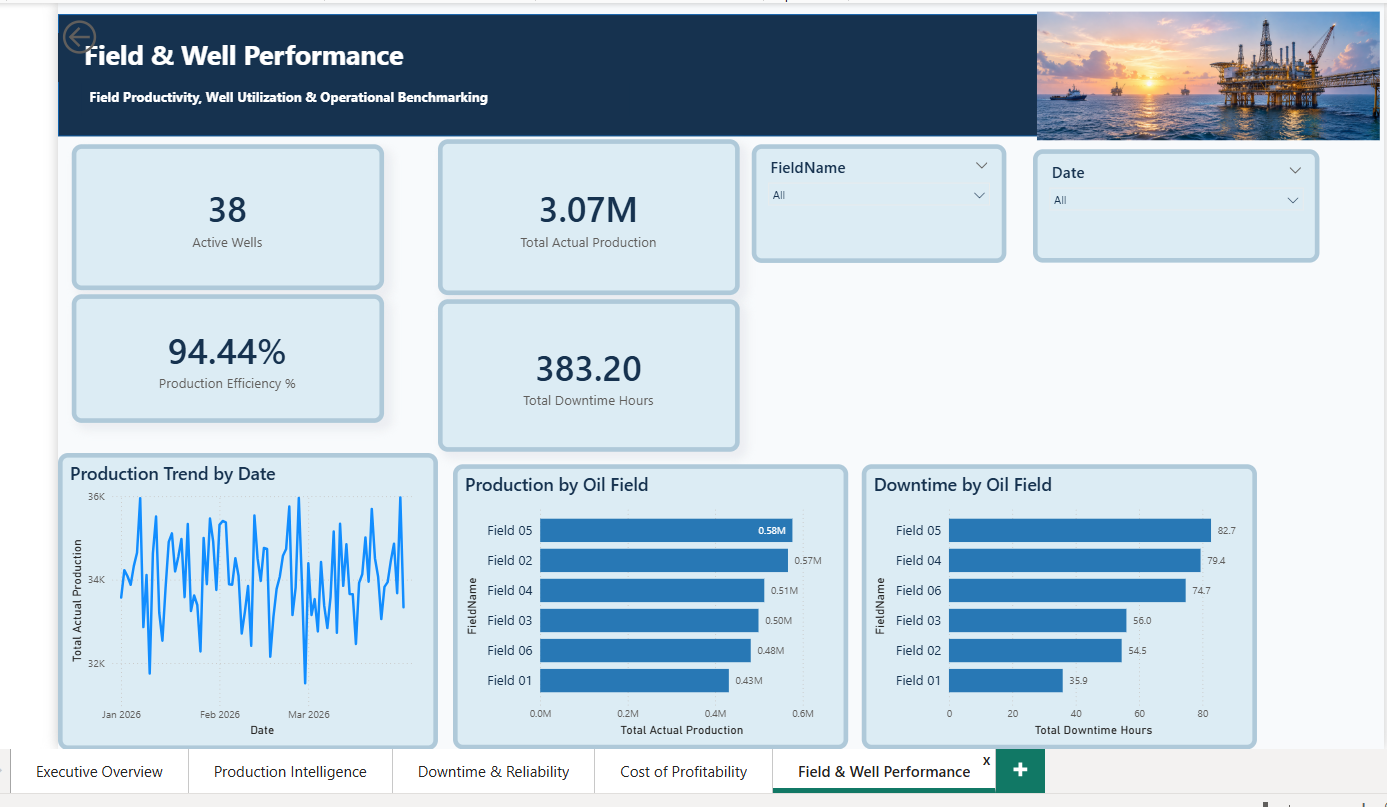

This screenshot's page, from the dashboard's own definition file:
{"tool":"powerbi","page":{"name":"Field & Well Performance","canvas":[1600,900],"ordinal":4},"visuals":[{"type":"shape","box":[0,14.3,1193.1,147.4],"z":0},{"type":"textbox","box":[0,36.8,1103.1,59.4],"z":1000},{"type":"image","box":[1176.8,0,423.6,176],"z":2000},{"type":"textbox","box":[29.3,97,661,40.3],"z":3000},{"type":"card","fields":{"Values":["Wells.Active Wells"]},"box":[16.4,169.9,376.6,176],"z":4000},{"type":"card","fields":{"Values":["DailyProduction.Total Actual Production"]},"box":[458.4,163.7,364.3,188.3],"z":5000},{"type":"card","fields":{"Values":["DailyProduction.Total Downtime Hours"]},"box":[458.4,358.1,364.3,184.2],"z":6000},{"type":"card","fields":{"Values":["DailyProduction.Production Efficiency %"]},"box":[16.4,352,376.6,155.5],"z":7000},{"type":"lineChart","title":"Production Trend by Date","fields":{"Category":["DimDate.Date"],"Y":["DailyProduction.Total Actual Production"]},"box":[0,542.3,458.4,358.1],"z":8000},{"type":"clusteredBarChart","title":"Production by Oil Field","fields":{"Y":["DailyProduction.Total Actual Production"],"Category":["Fields.FieldName"]},"box":[476.9,556.7,476.9,343.8],"z":9000},{"type":"clusteredBarChart","title":"Downtime by Oil Field","fields":{"Category":["Fields.FieldName"],"Y":["DailyProduction.Total Downtime Hours"]},"box":[970.1,556.7,476.9,343.8],"z":10000},{"type":"slicer","fields":{"Values":["Fields.FieldName"]},"box":[837,169.9,307,143.3],"z":11000},{"type":"slicer","fields":{"Values":["DimDate.Date"]},"box":[1176.8,176,345.9,137.1],"z":12000},{"type":"actionButton","box":[0,14.3,73.5,52],"z":13000}]}

Visuals, with their boxes on the page's 1600x900 design canvas (x1, y1, x2, y2). These are canvas units, not pixel positions in the 1387x807 screenshot, which may show the page scaled, cropped or inside an application window:
shape: bbox=(0, 14, 1193, 162)
textbox: bbox=(0, 37, 1103, 96)
image: bbox=(1177, 0, 1600, 176)
textbox: bbox=(29, 97, 690, 137)
card - Wells.Active Wells: bbox=(16, 170, 393, 346)
card - DailyProduction.Total Actual Production: bbox=(458, 164, 823, 352)
card - DailyProduction.Total Downtime Hours: bbox=(458, 358, 823, 542)
card - DailyProduction.Production Efficiency %: bbox=(16, 352, 393, 508)
"Production Trend by Date" lineChart: bbox=(0, 542, 458, 900)
"Production by Oil Field" clusteredBarChart: bbox=(477, 557, 954, 900)
"Downtime by Oil Field" clusteredBarChart: bbox=(970, 557, 1447, 900)
slicer - Fields.FieldName: bbox=(837, 170, 1144, 313)
slicer - DimDate.Date: bbox=(1177, 176, 1523, 313)
actionButton: bbox=(0, 14, 74, 66)
